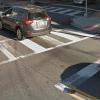Crosswalk: (2, 35, 76, 66)
